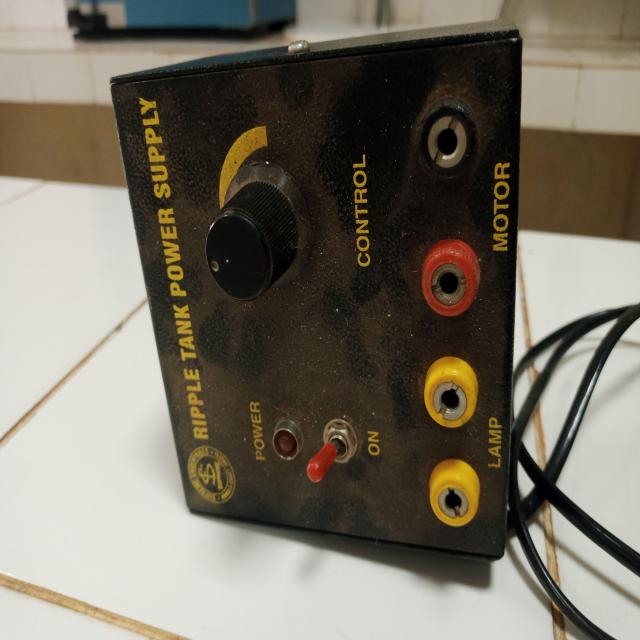Ripple Tank Power Supply: (100, 8, 526, 573)
